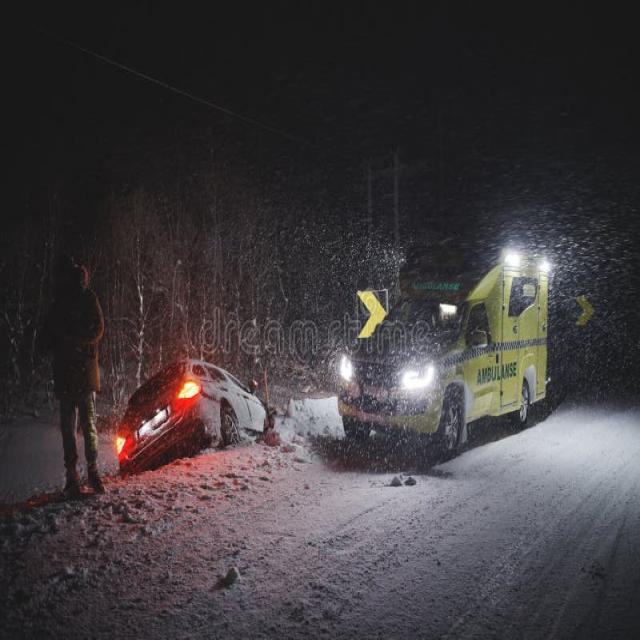Accident: (108, 354, 275, 479)
